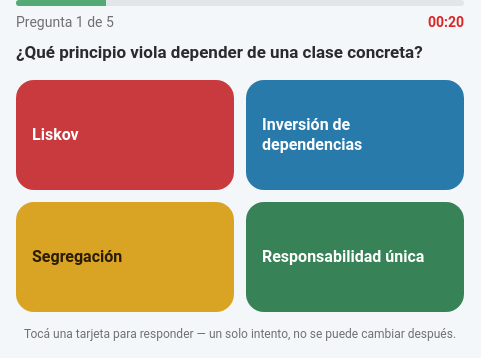
it: SesionEnVivoEstudiante › responder (US-6.3.9) › tiempo agotado (422 con la pregunta todavía abierta): 'Se acabó el tiempo' con el acumulado
Step 1. Click the button "Liskov" → (125, 134), box [16,80,234,190]
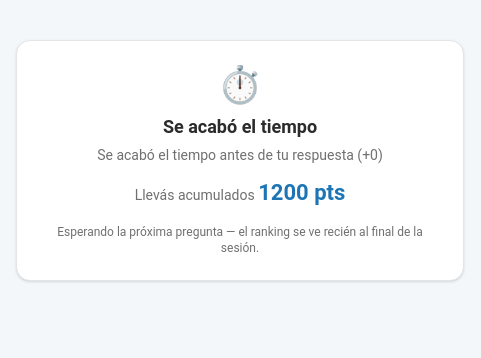
expect the heading "Se acabó el tiempo" is shown: met, box [163,116,317,137]
expect the text "1200 pts" is shown: met, box [258,180,345,205]
